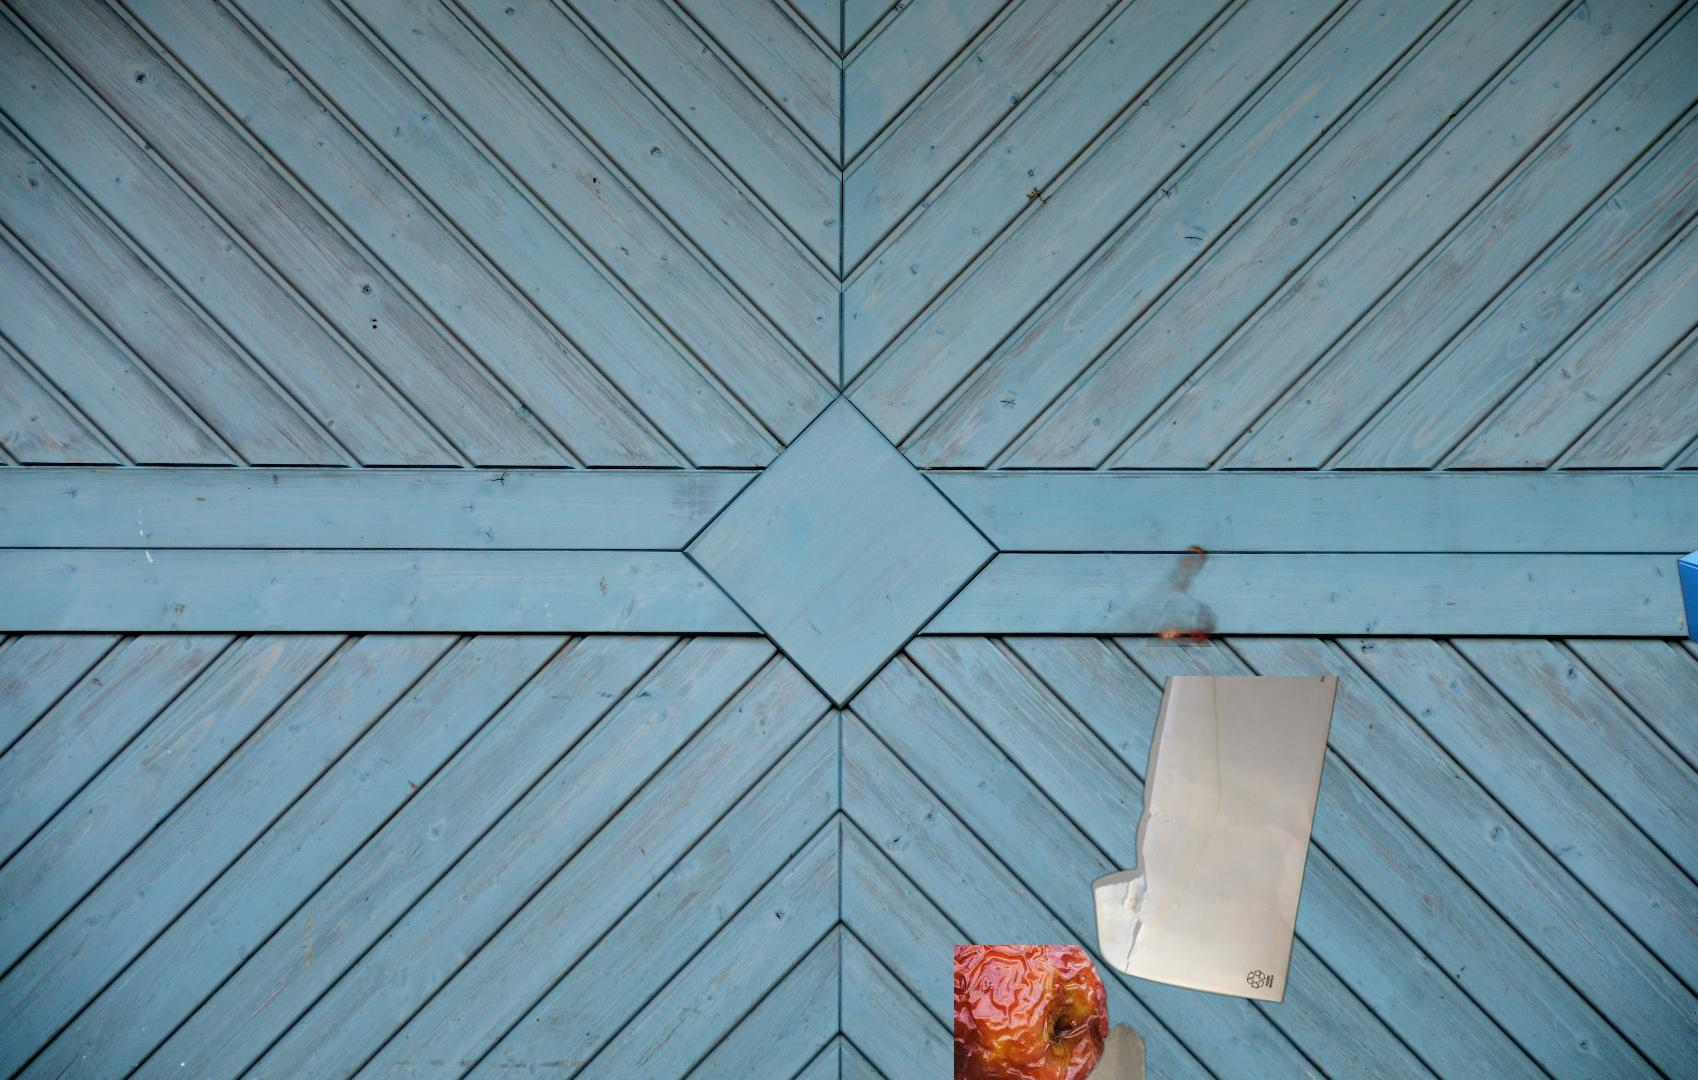biological: (950, 479, 1250, 647), (954, 945, 1113, 1080)
paper: (1087, 675, 1344, 1006), (946, 1021, 1183, 1080)
trashbox-cardboard: (1674, 301, 1698, 699)
